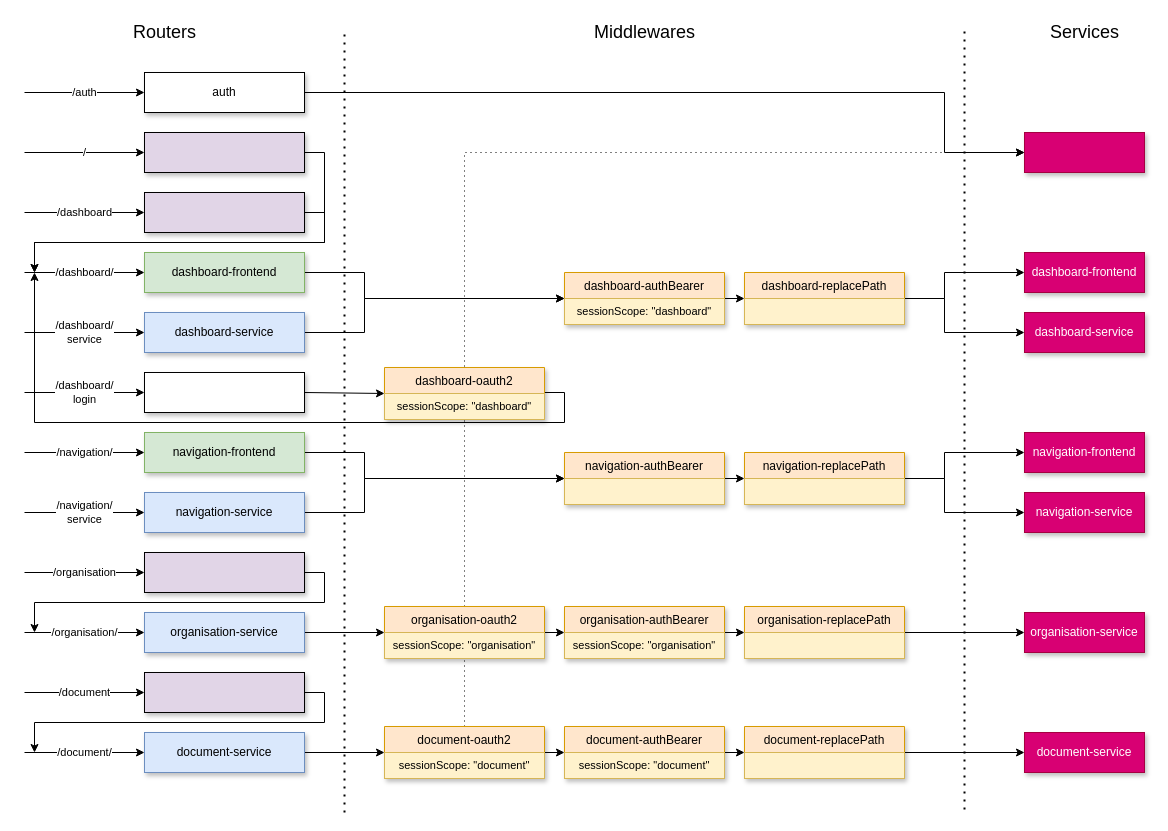
Some shapes in this 1168 by 831 pixel diagram are drawn without their labels. Here are the shapes that lost their labels. From the top down, the centre of each, then its label:
(x=225, y=154): root
(x=1085, y=154): portal-iam
(x=225, y=214): dashboard-redirect
(x=824, y=311): from /dashboard/ to /
(x=225, y=394): dashboard-login-redirect
(x=644, y=491): sessionScope: "ID"
(x=824, y=491): from /navigation/ to /
(x=225, y=574): organisation-redirect
(x=824, y=645): from /organisation/ to /
(x=225, y=694): document-redirect
(x=824, y=765): from /document/ to /
